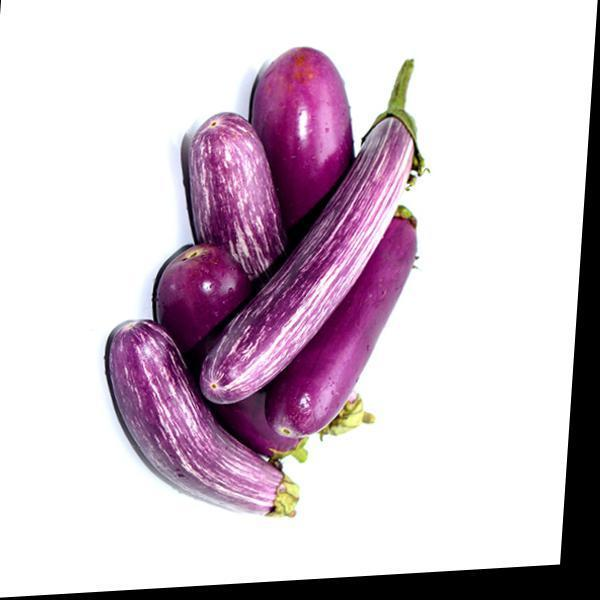eggplant: (85, 34, 482, 530)
